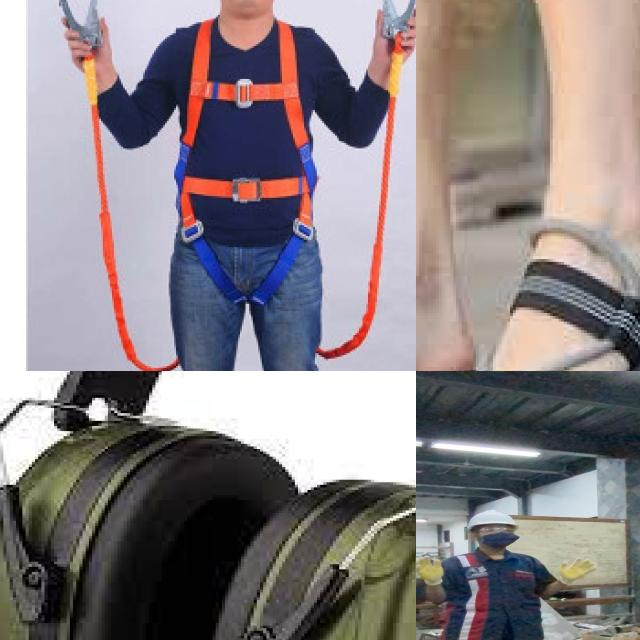Ear-protection: (22, 371, 416, 640)
Harness: (172, 15, 313, 311), (54, 0, 112, 57), (371, 0, 416, 51)
Sandals: (429, 198, 640, 371)
face_mask: (476, 524, 518, 548)
glasses: (472, 525, 518, 535)
hand_glove: (557, 557, 597, 581), (416, 555, 447, 583)
head_helmet: (467, 508, 517, 526)
person: (416, 507, 602, 640)
